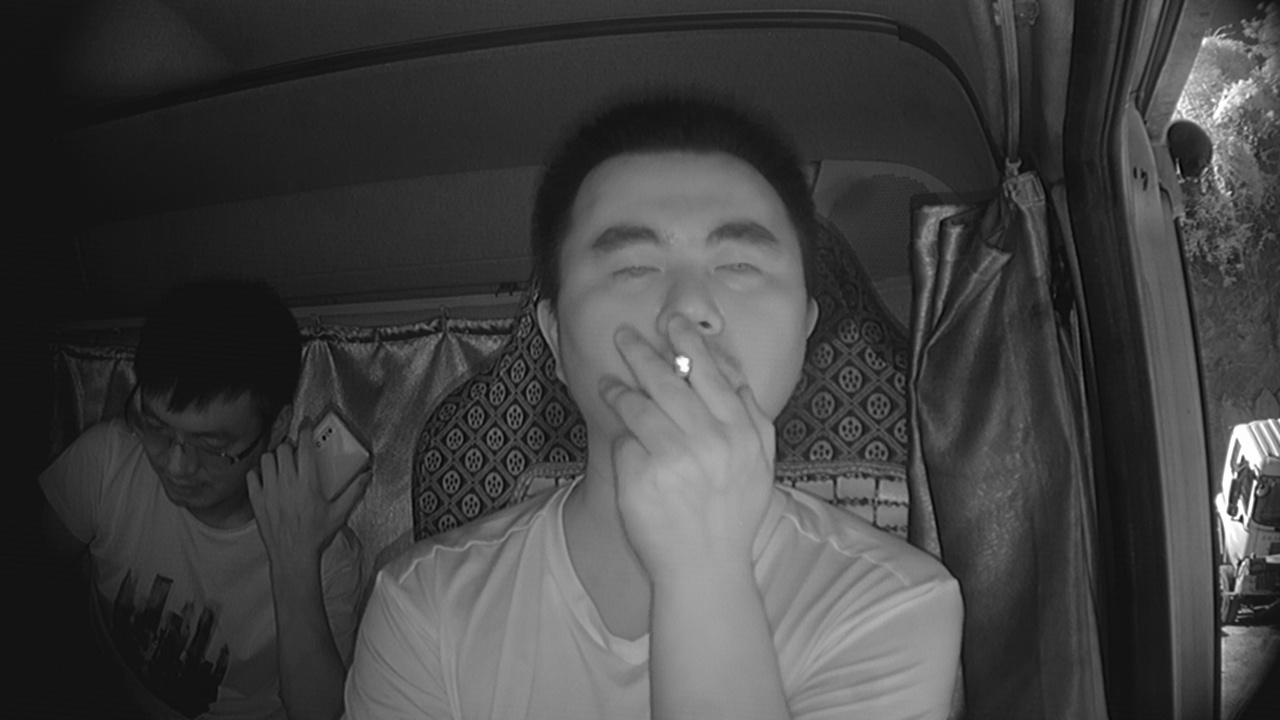hand: (608, 327, 776, 560)
